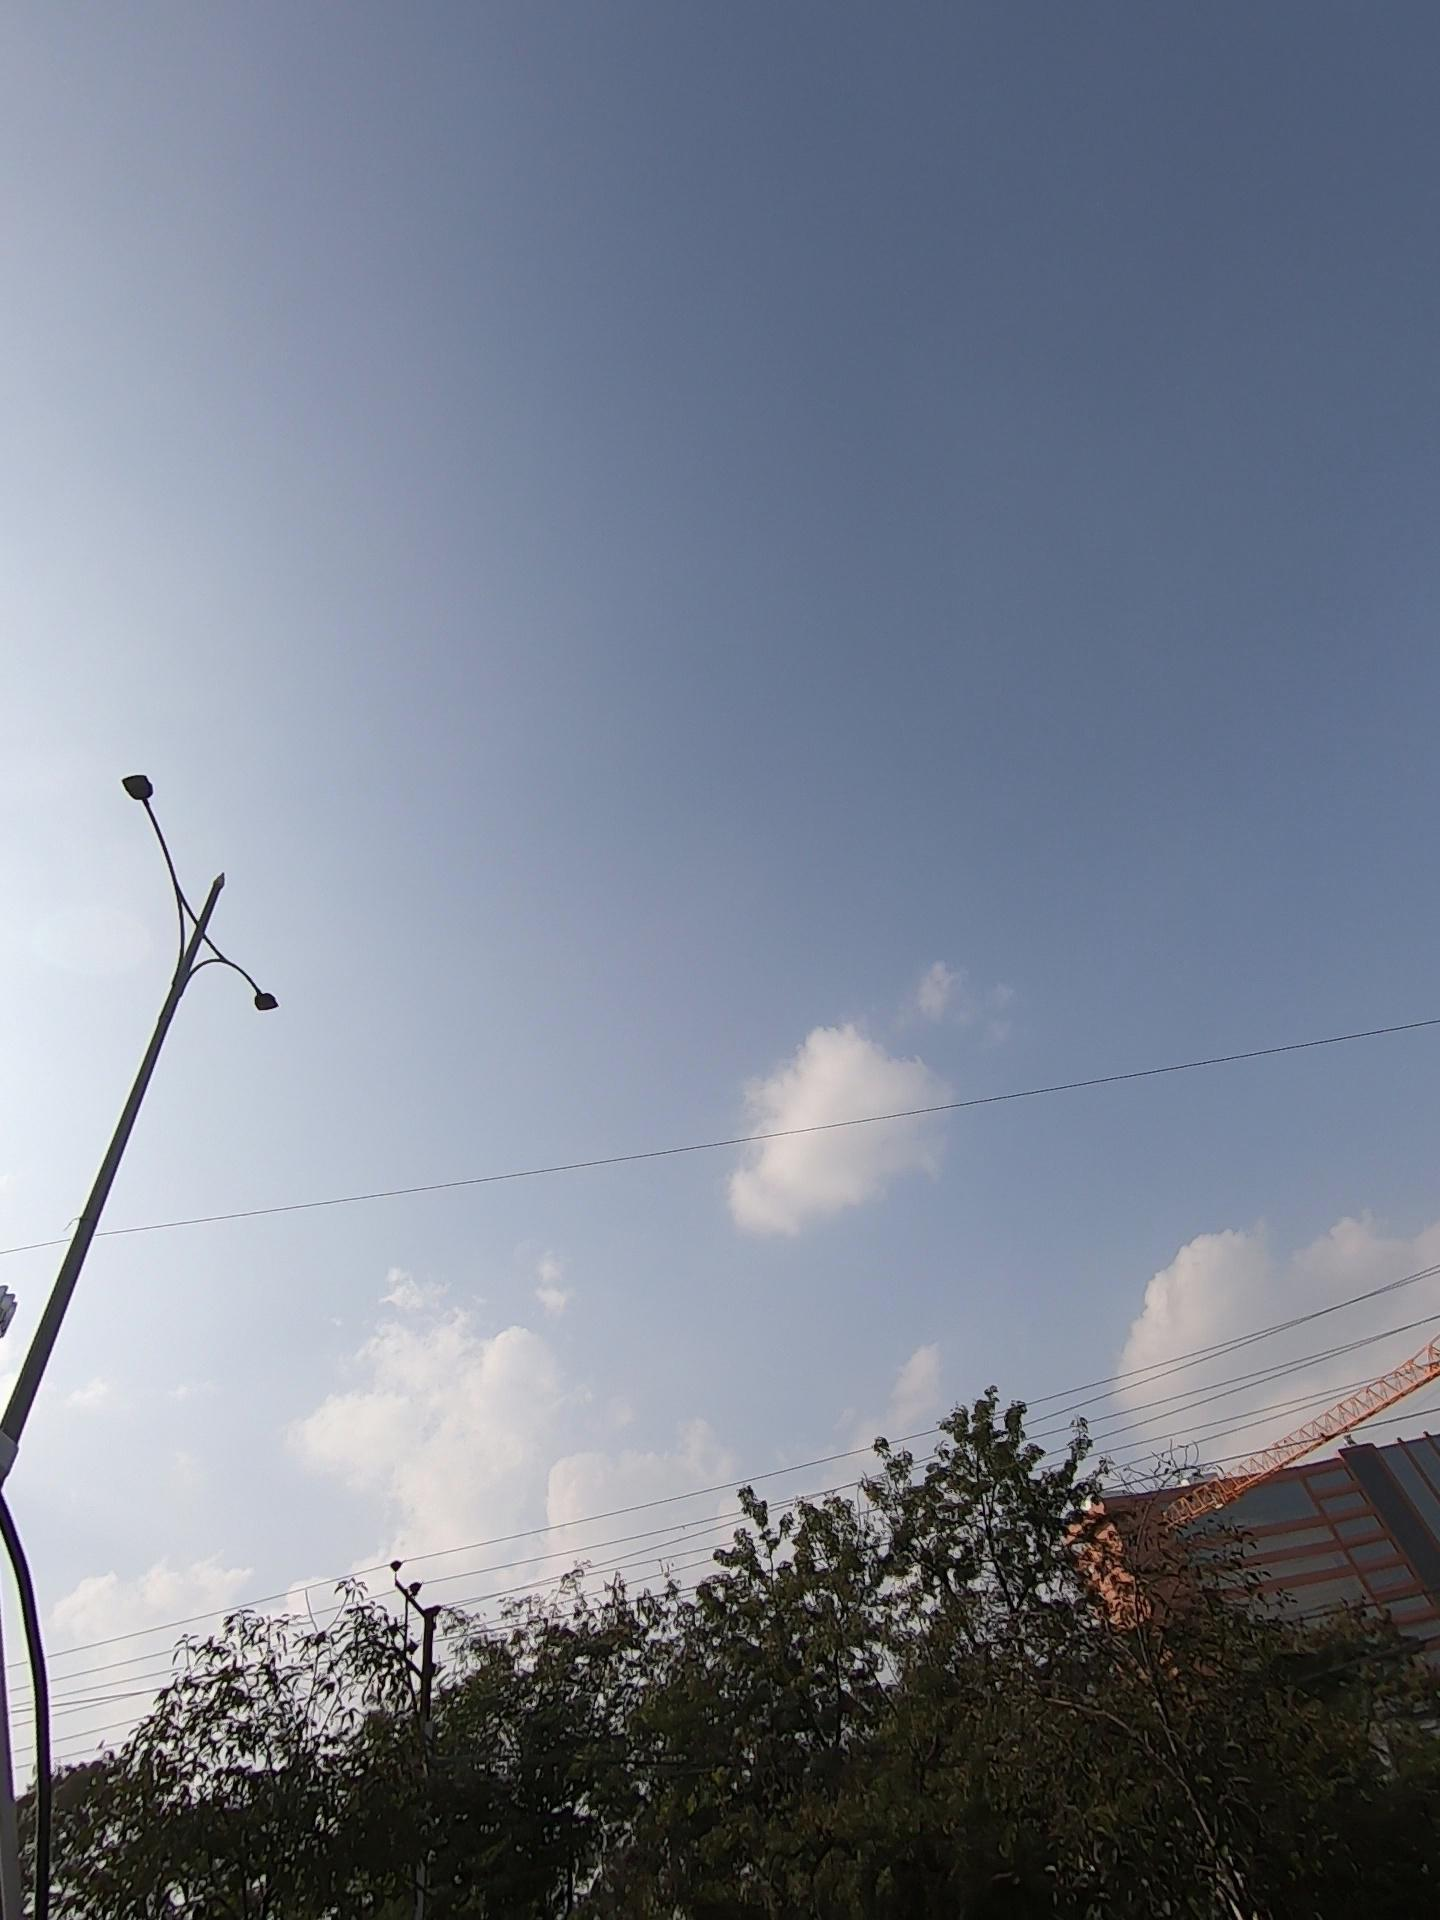off: (107, 724, 336, 1066)
